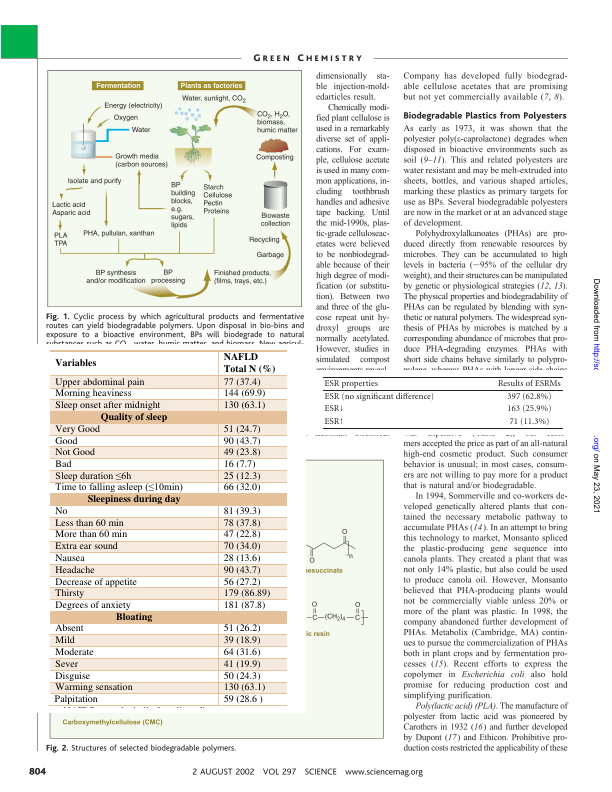borderless: (47, 349, 286, 707), (321, 375, 563, 428)
cell: (54, 480, 183, 495), (54, 399, 161, 412), (222, 351, 276, 376), (86, 493, 181, 506), (54, 376, 145, 389), (54, 469, 132, 484), (54, 575, 137, 589), (323, 392, 435, 402), (54, 681, 133, 694), (54, 387, 132, 400), (54, 599, 131, 612), (54, 528, 127, 541), (54, 517, 124, 530), (99, 411, 168, 424), (54, 540, 118, 553), (497, 379, 562, 389), (222, 587, 271, 600), (54, 423, 100, 436), (53, 693, 98, 706), (222, 387, 266, 400), (222, 399, 266, 412), (222, 599, 266, 612), (222, 681, 266, 694), (323, 379, 379, 389), (54, 357, 97, 370), (222, 434, 261, 448), (222, 575, 261, 589), (114, 610, 153, 624), (222, 669, 261, 683), (54, 446, 95, 459), (54, 564, 95, 577), (222, 693, 263, 706), (54, 646, 94, 659), (54, 669, 91, 683), (222, 376, 261, 389), (222, 423, 261, 436), (222, 446, 261, 459), (222, 470, 261, 483), (222, 481, 261, 494), (222, 505, 261, 518), (222, 517, 261, 530), (222, 528, 261, 541), (222, 540, 261, 553), (222, 552, 261, 565), (222, 564, 261, 577), (222, 622, 261, 635), (222, 634, 261, 647), (222, 646, 261, 659), (222, 658, 261, 671), (508, 416, 550, 427), (506, 392, 552, 402), (506, 404, 552, 414), (222, 458, 256, 471), (54, 552, 85, 565), (54, 587, 85, 600), (54, 622, 84, 635), (54, 434, 78, 448), (54, 658, 78, 671), (54, 634, 75, 647), (323, 416, 345, 427), (54, 458, 72, 471), (323, 404, 345, 414), (54, 505, 68, 518)
